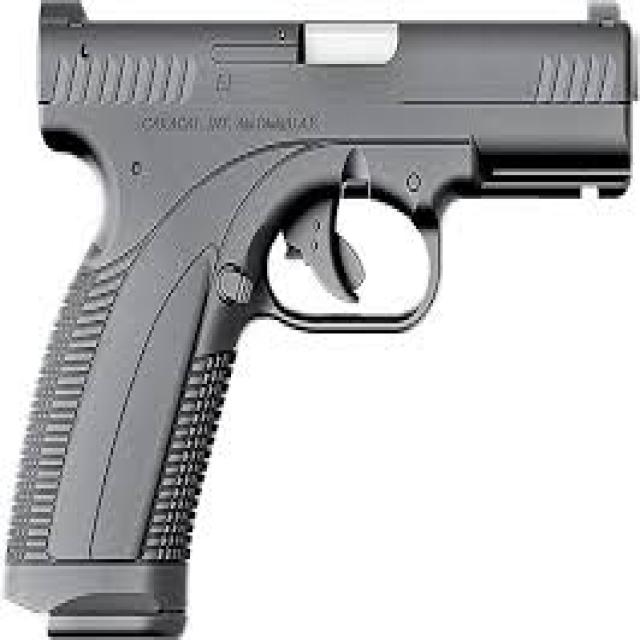Gun: (20, 0, 630, 640)
